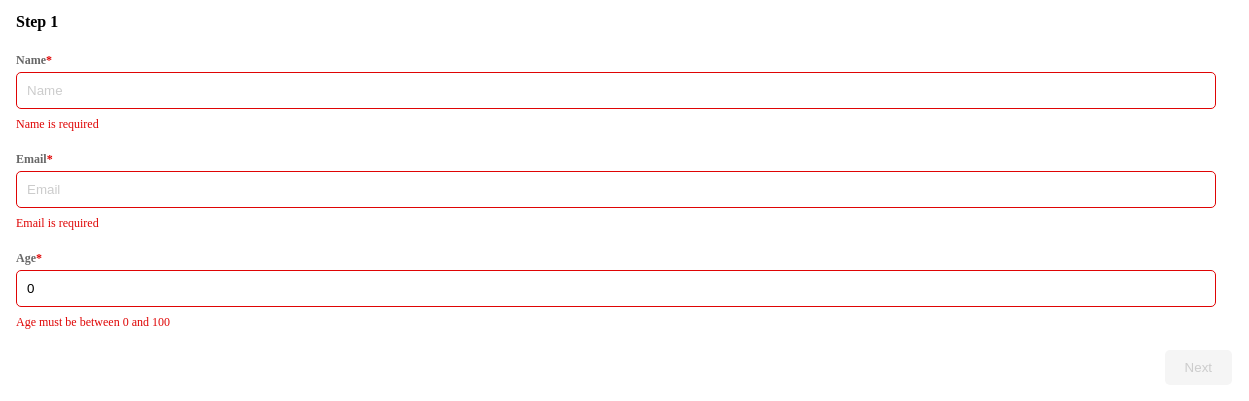
Task3 Component › renders from errors for step 1
Expected: the text "Name is required" is shown, 16,116 -> 99,130
Expected: the text "Email is required" is shown, 16,216 -> 99,230
In the field with placeholder "name": (616, 90) 16,72 -> 1216,108, type "test"
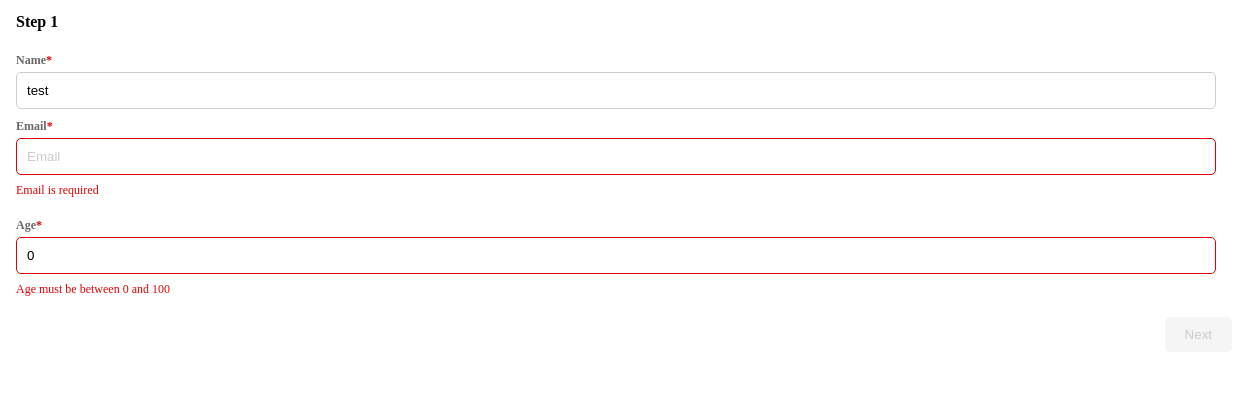
Result: the text "Name is required" is gone
Replace the text in the number field with placeholder "age" with "25": (616, 255) 16,236 -> 1216,274
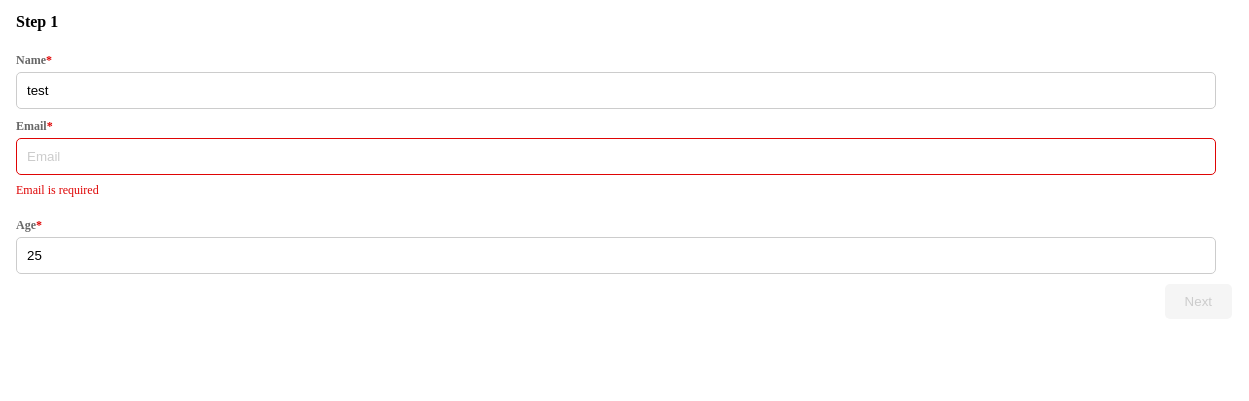
Result: the text "Age must be between 0 and 100" is gone
Note: add invalid email to input and check for email error
In the field with placeholder "email": (616, 156) 16,138 -> 1216,174, type "test"
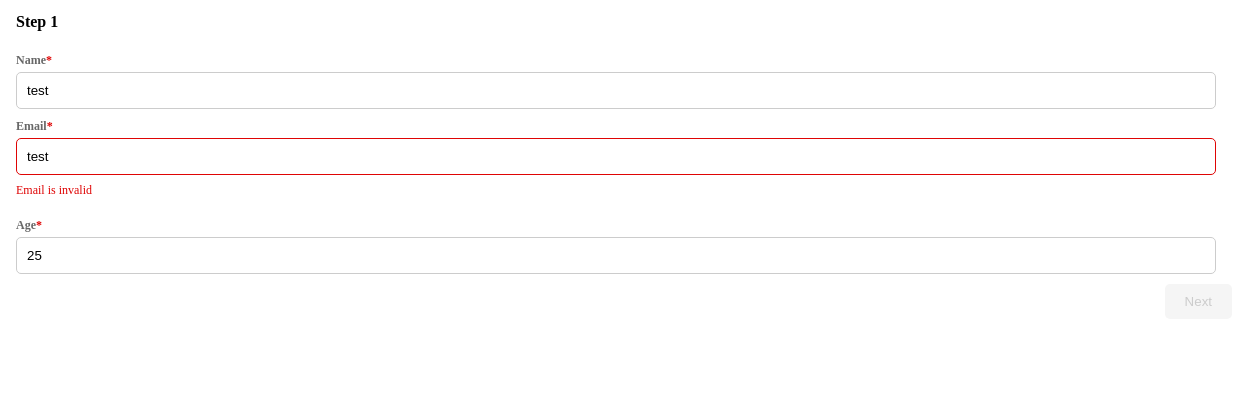
Result: the text "Email is invalid" is shown at 16,182 -> 92,196
Note: add valid email
Replace the text in the field with placeholder "email" with "test@a.com": (616, 156) 16,138 -> 1216,174
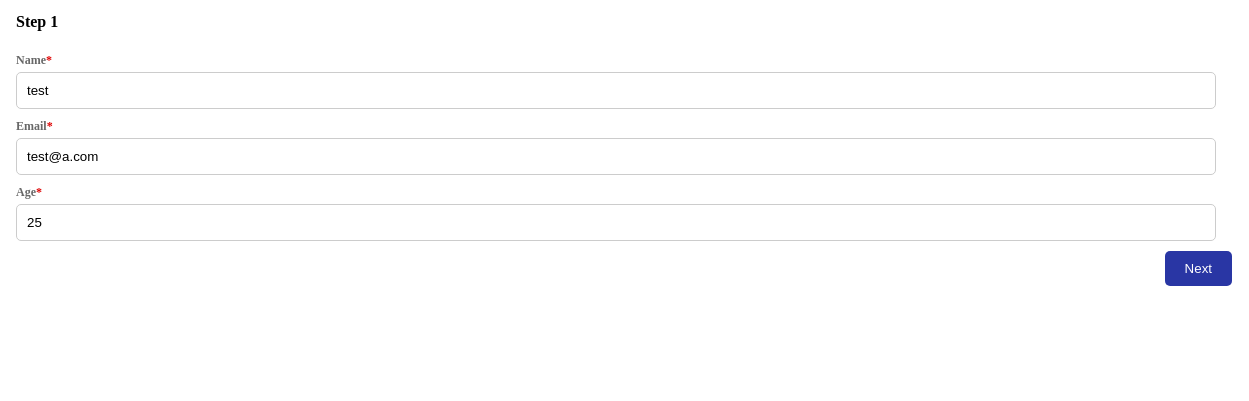
Result: the text "Email is invalid" is gone
Result: the button is enabled at 1165,250 -> 1232,286
